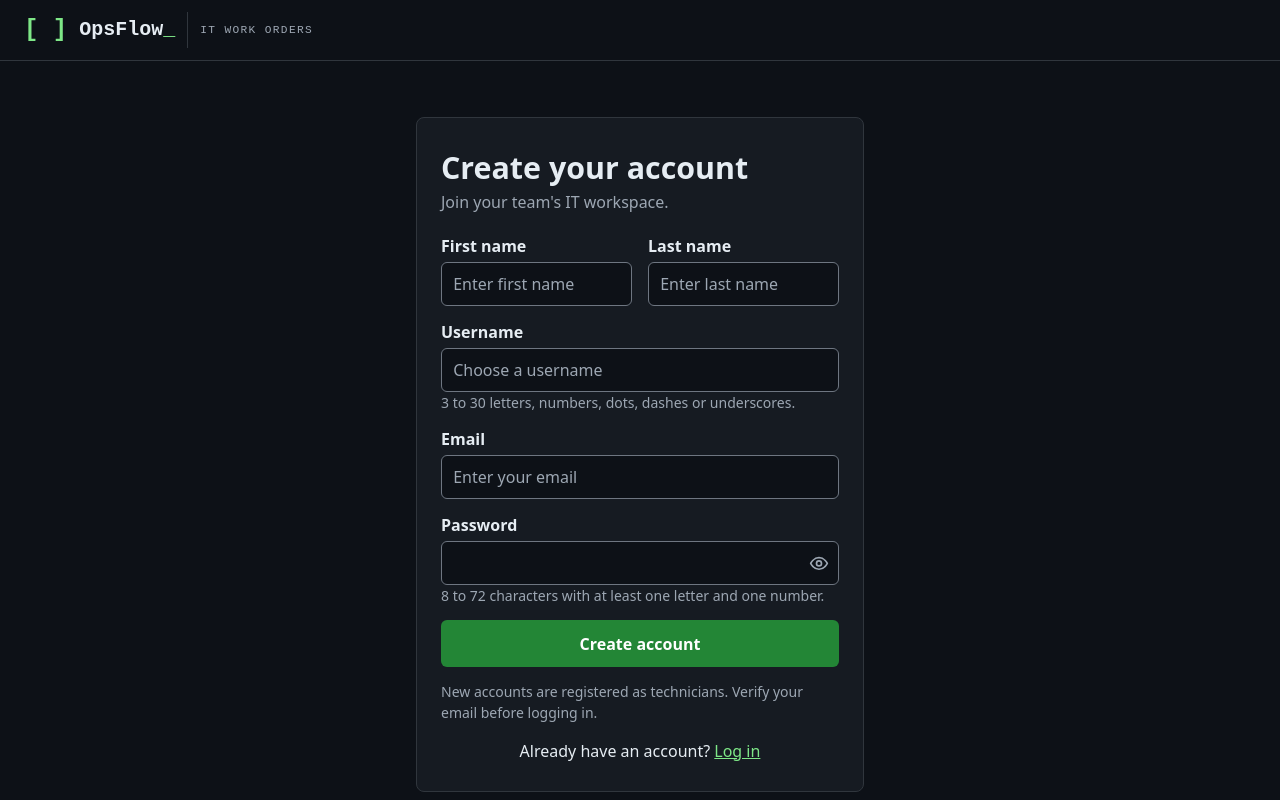
Test case: web authentication screens › registers and then tells the user to verify before logging in
This screenshot has width=1280, height=800.
In the field labelled "First name": (536, 284) x1=441 y1=262 x2=632 y2=306, type "Jamie"
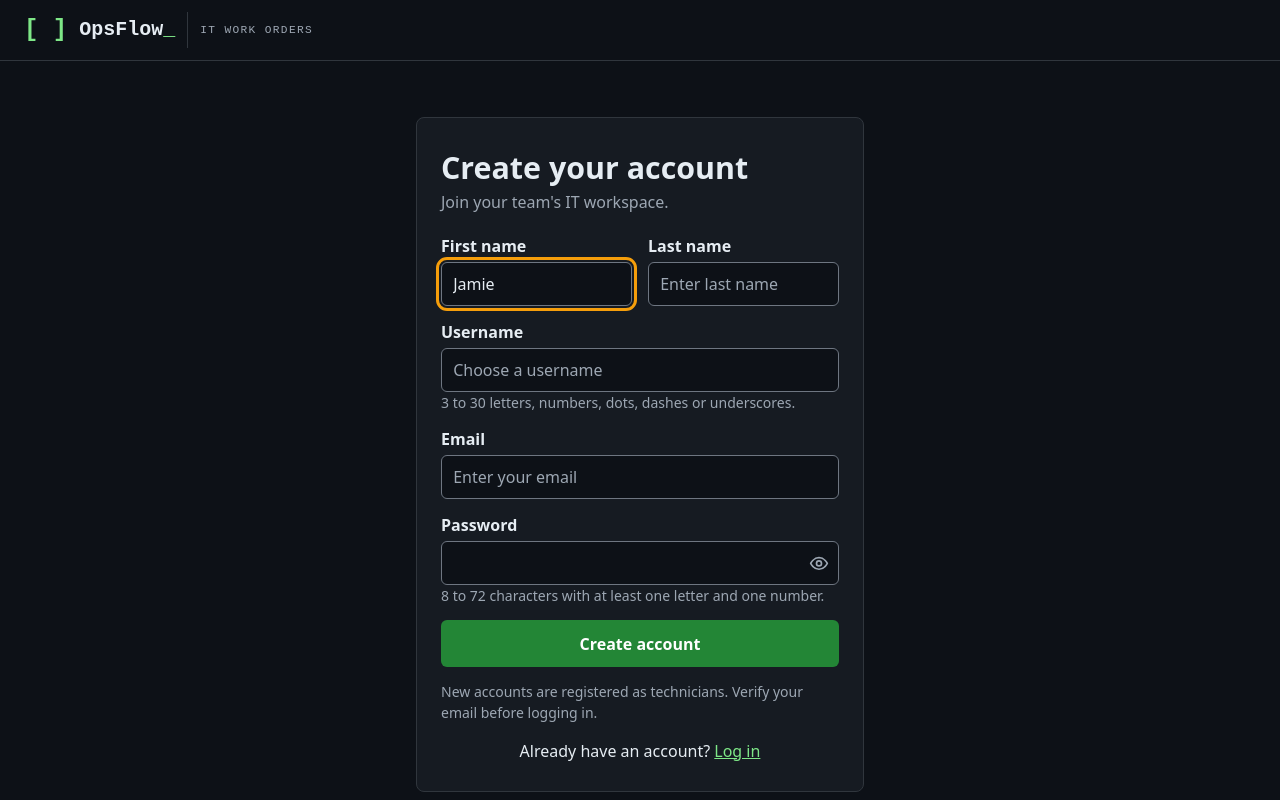
In the field labelled "Last name": (744, 284) x1=648 y1=262 x2=839 y2=306, type "Rivera"
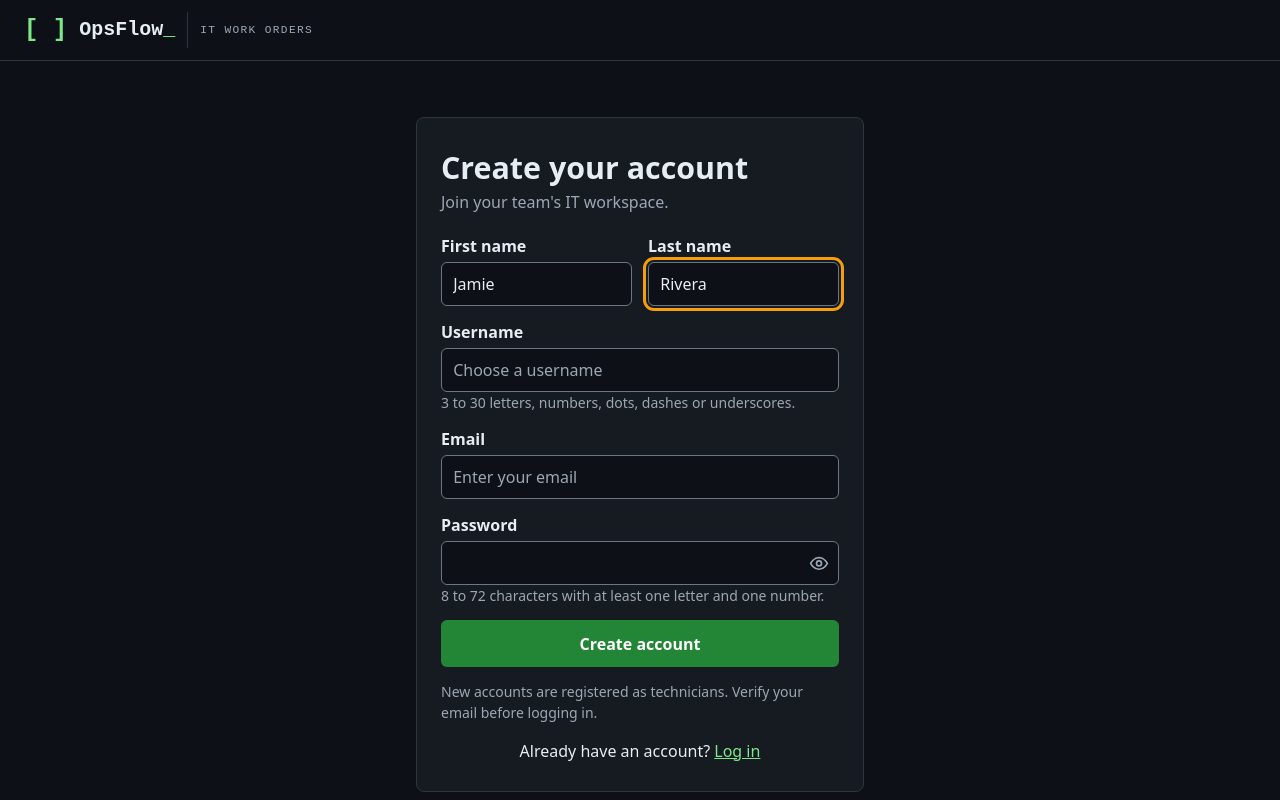
In the field labelled "Username": (640, 370) x1=441 y1=348 x2=839 y2=392, type "jrivera"
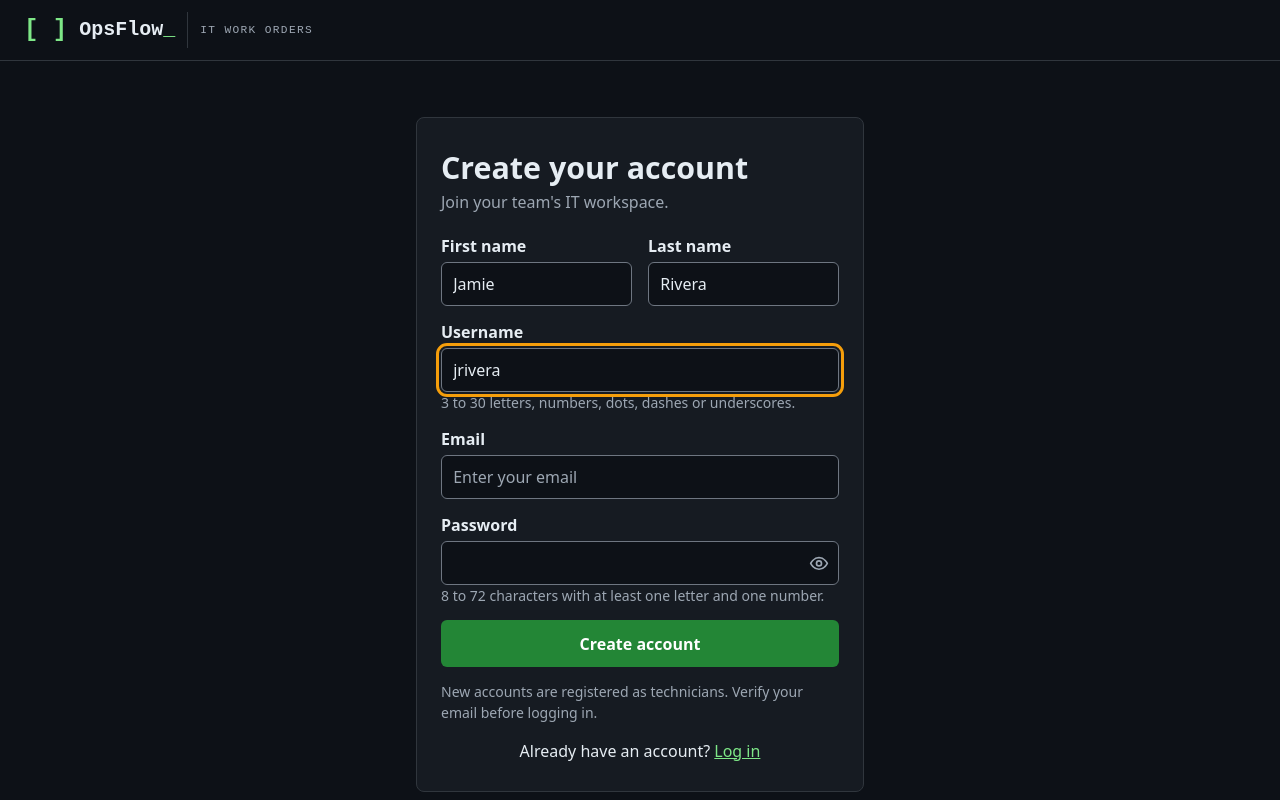
In the field labelled "Email": (640, 477) x1=441 y1=456 x2=839 y2=499, type "jamie@example.com"
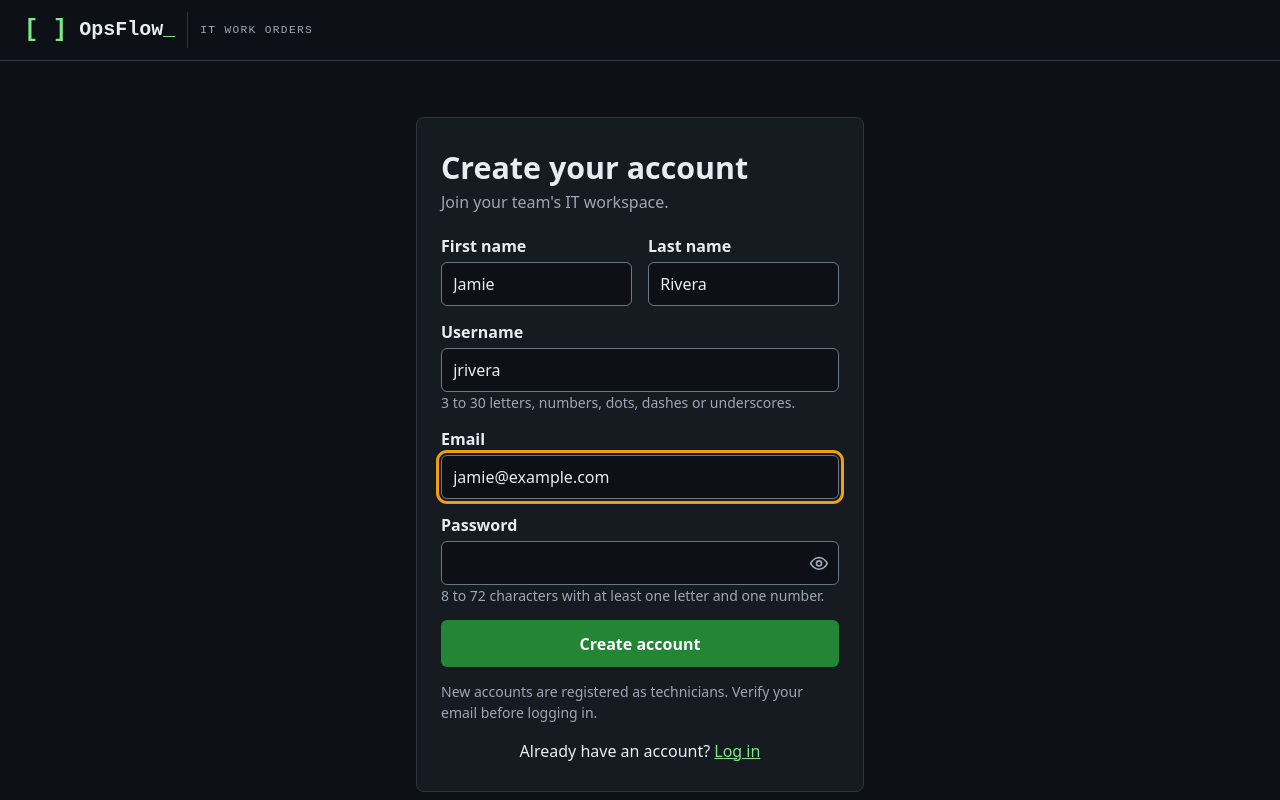
In the password field labelled "Password": (640, 563) x1=441 y1=541 x2=839 y2=585, type "Password123!"
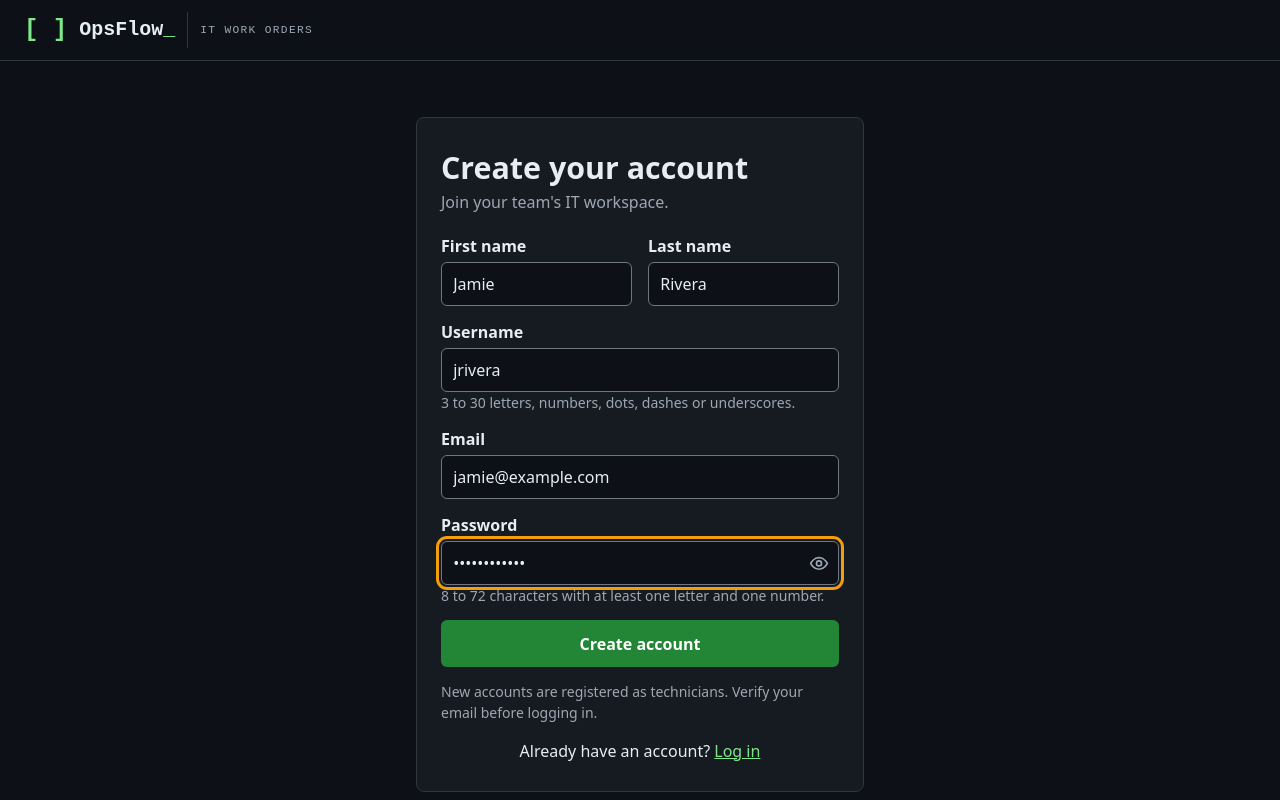
Click the button "Create account": (640, 644) x1=441 y1=620 x2=839 y2=667
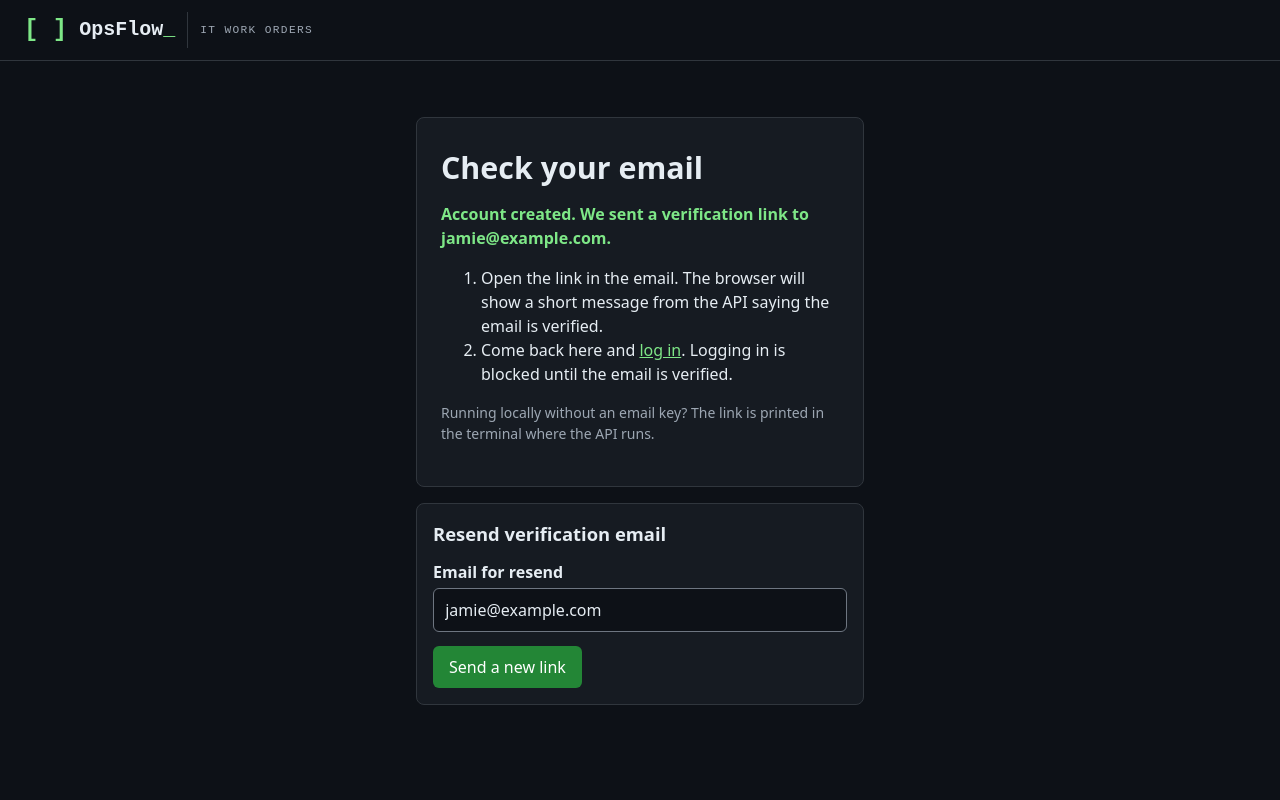
Expected: the heading "Check your email" is shown, x1=441 y1=147 x2=703 y2=188
